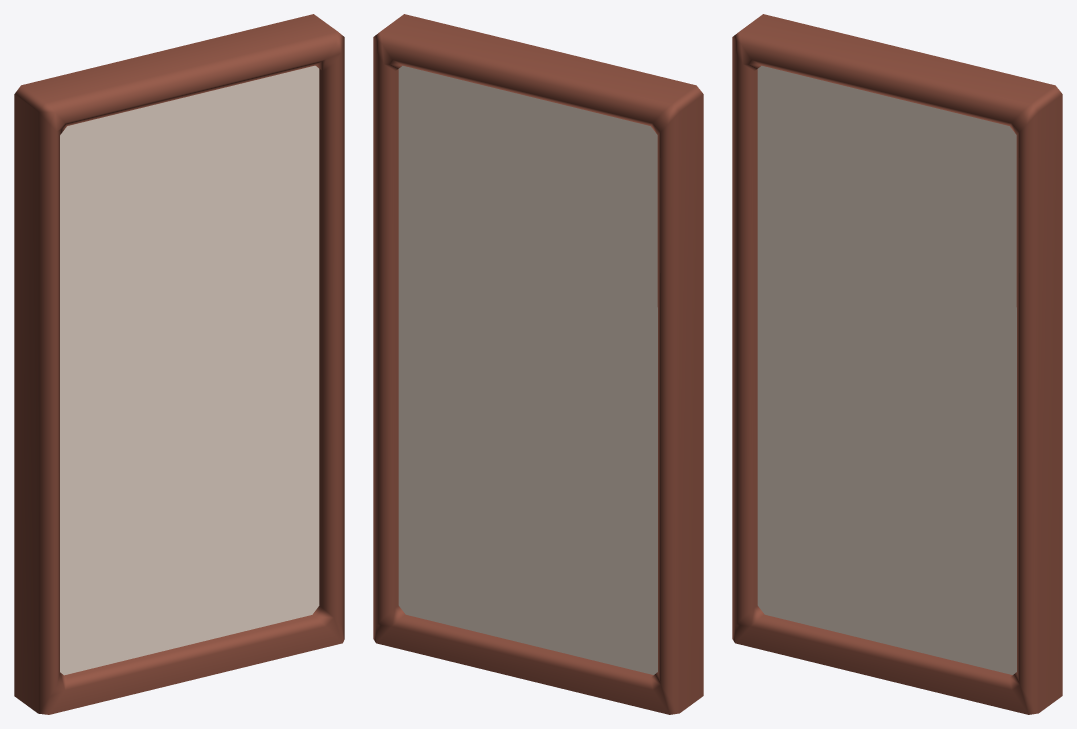
Rendered from Wall2.fbx.
3 views of the same model, side by side, from view 1: azimuth 30°, elevation 25°; view 2: azimuth 150°, elevation 25°; view 3: azimuth 330°, elevation 25° (orthographic).
Parts seen in each view (by area): view 1: Wall2; view 2: Wall2; view 3: Wall2.
Part boxes in pixels (<box>): Wall2: <box>14,14,344,714</box>; Wall2: <box>373,14,703,714</box>; Wall2: <box>732,14,1062,714</box>.
Size of the model in its own units: 200 by 380 by 36.32.
